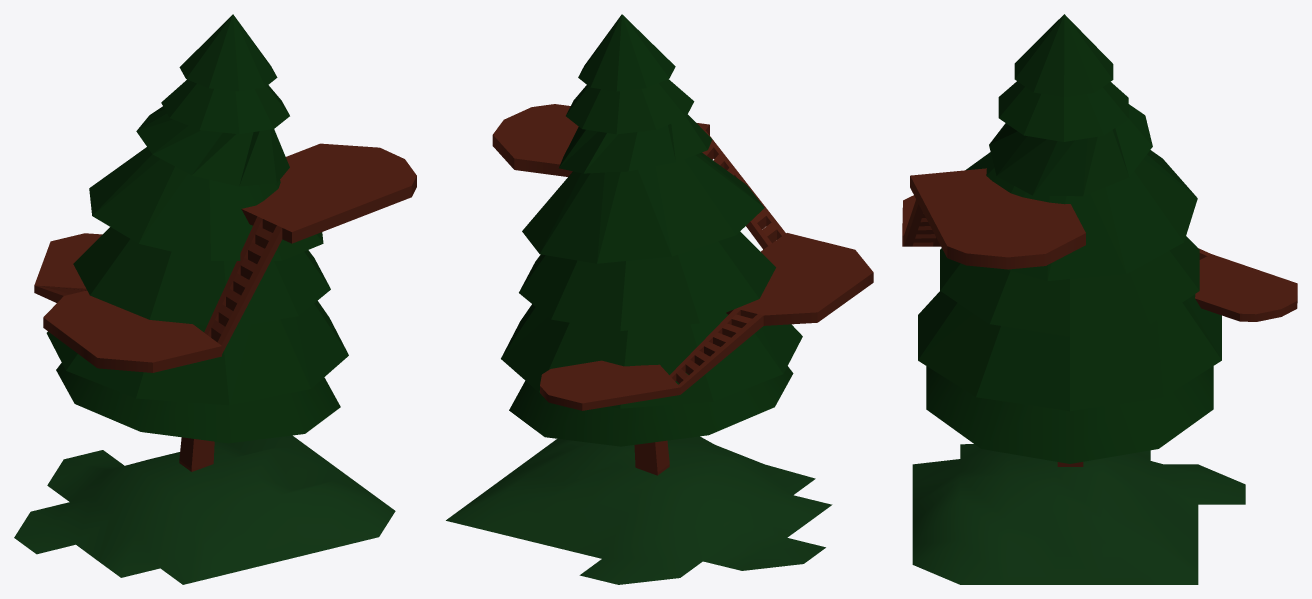
Rendered from PineTree.FBX.
3 views of the same model, side by side, from view 1: azimuth 30°, elevation 25°; view 2: azimuth 150°, elevation 25°; view 3: azimuth 270°, elevation 25° (orthographic). The views are drawn at different scales.
Parts seen in each view (by area): view 1: Pineleaves, underground, Platforms, Stamp; view 2: Pineleaves, underground, Platforms, Stamp; view 3: Pineleaves, underground, Platforms.
Part boxes in pixels (x1=…): Pineleaves: x1=46, y1=14, x2=348, y2=443; underground: x1=14, y1=435, x2=395, y2=584; Platforms: x1=34, y1=143, x2=416, y2=372; Stamp: x1=179, y1=437, x2=214, y2=471; Pineleaves: x1=501, y1=14, x2=802, y2=446; underground: x1=446, y1=436, x2=832, y2=584; Platforms: x1=492, y1=104, x2=873, y2=410; Stamp: x1=634, y1=440, x2=669, y2=475; Pineleaves: x1=918, y1=14, x2=1221, y2=463; underground: x1=912, y1=444, x2=1245, y2=584; Platforms: x1=902, y1=168, x2=1297, y2=321.
Size of the model in its own units: 91.83 by 124 by 86.62.
